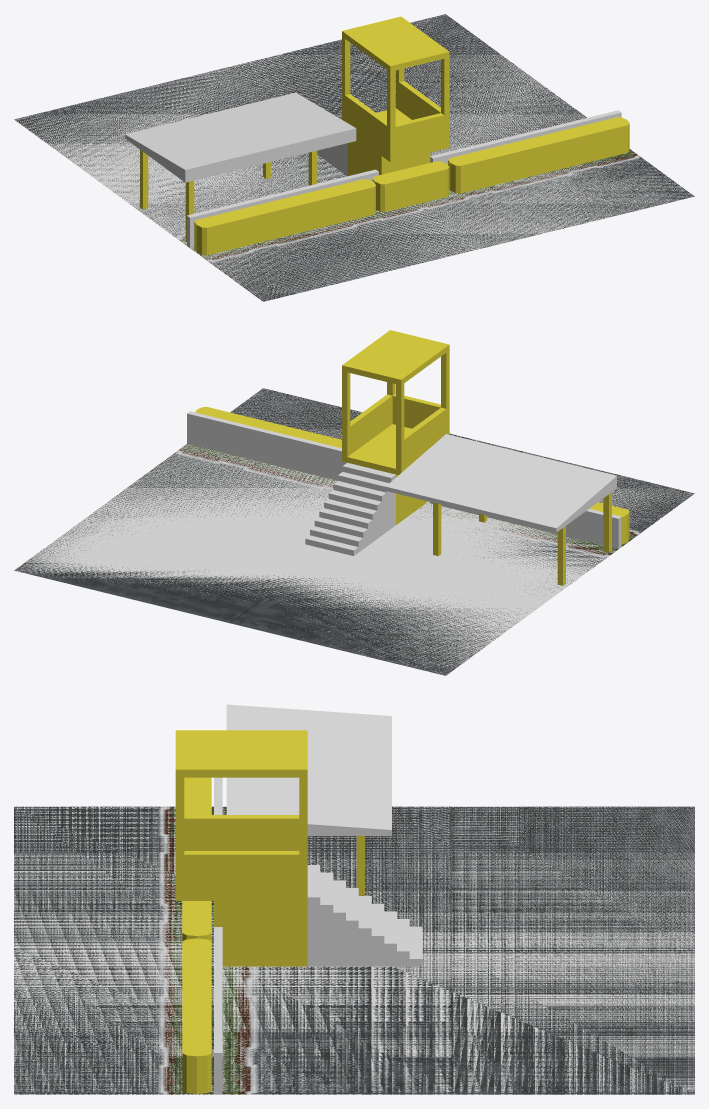
Rendered from car_meet.glb.
The picture shows the model from 3 angles, top to bottom: view 1: azimuth 30°, elevation 25°; view 2: azimuth 150°, elevation 25°; view 3: azimuth 270°, elevation 25°; orthographic projection. The views are drawn at different scales.
Visible parts, largest first — view 1: VISUAL_ground, COL_ROAD_ground, VISUAL_post, VISUAL_roof, VISUAL_barrier.001, VISUAL_barrier.002, VISUAL_barrier.003, VISUAL_wall, VISUAL_wall.001, COL_MESH_stars, VISUAL_supportroof.002; view 2: COL_ROAD_ground, VISUAL_ground, VISUAL_roof, VISUAL_post, VISUAL_wall.001, VISUAL_wall, VISUAL_barrier.002, VISUAL_stars.001, VISUAL_stars.002, VISUAL_stars, VISUAL_stars.003, VISUAL_stars.004 (+4 smaller); view 3: VISUAL_ground, COL_ROAD_ground, VISUAL_post, VISUAL_roof, VISUAL_barrier.002, COL_MESH_stars, VISUAL_wall.001, VISUAL_stars, VISUAL_stars.001, VISUAL_barrier.003, VISUAL_stars.002, VISUAL_barrier.001 (+4 smaller).
Boxes of the visible parts, x1,y1,x2,y2 form: VISUAL_ground: (14, 14, 694, 301); COL_ROAD_ground: (15, 14, 693, 301); VISUAL_post: (342, 16, 449, 176); VISUAL_roof: (125, 92, 356, 182); VISUAL_barrier.001: (194, 179, 375, 255); VISUAL_barrier.002: (448, 117, 629, 193); VISUAL_barrier.003: (372, 161, 449, 211); VISUAL_wall: (187, 169, 378, 248); VISUAL_wall.001: (430, 110, 621, 164); COL_MESH_stars: (317, 143, 347, 175); VISUAL_supportroof.002: (140, 150, 148, 209); COL_ROAD_ground: (15, 388, 694, 675); VISUAL_ground: (14, 388, 694, 675); VISUAL_roof: (385, 434, 616, 532); VISUAL_post: (342, 330, 449, 524); VISUAL_wall.001: (187, 411, 346, 480); VISUAL_wall: (429, 502, 621, 549); VISUAL_barrier.002: (195, 407, 341, 448); VISUAL_stars.001: (338, 472, 391, 531); VISUAL_stars.002: (333, 481, 386, 535); VISUAL_stars: (342, 463, 395, 528); VISUAL_stars.003: (328, 490, 381, 538); VISUAL_stars.004: (324, 499, 377, 541); VISUAL_ground: (14, 806, 694, 1094); COL_ROAD_ground: (14, 806, 694, 1094); VISUAL_post: (175, 730, 307, 966); VISUAL_roof: (226, 704, 391, 835); VISUAL_barrier.002: (182, 938, 211, 1093); COL_MESH_stars: (307, 898, 421, 966); VISUAL_wall.001: (214, 927, 222, 1094); VISUAL_stars: (307, 865, 320, 966); VISUAL_stars.001: (320, 872, 333, 966); VISUAL_barrier.003: (182, 901, 211, 941); VISUAL_stars.002: (333, 880, 345, 966); VISUAL_barrier.001: (184, 777, 211, 814).
Size of the model in its own units: 16 by 5.2 by 16.
Materials: 2 (1 with a texture image).
